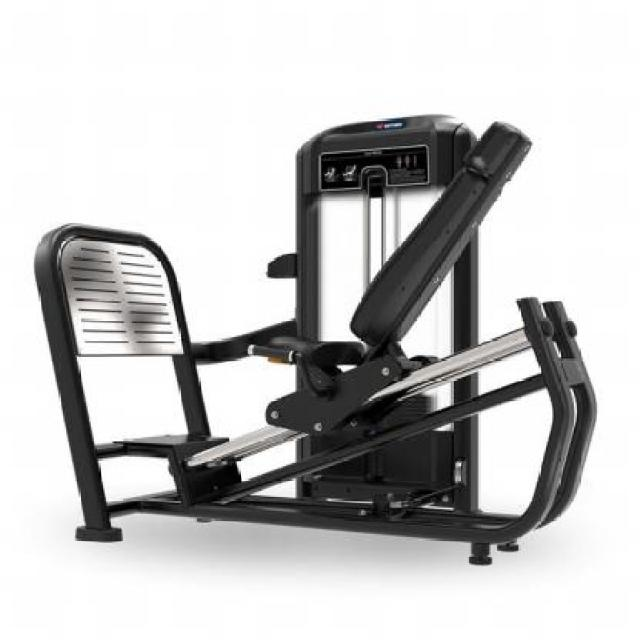leg press: (26, 71, 614, 589)
